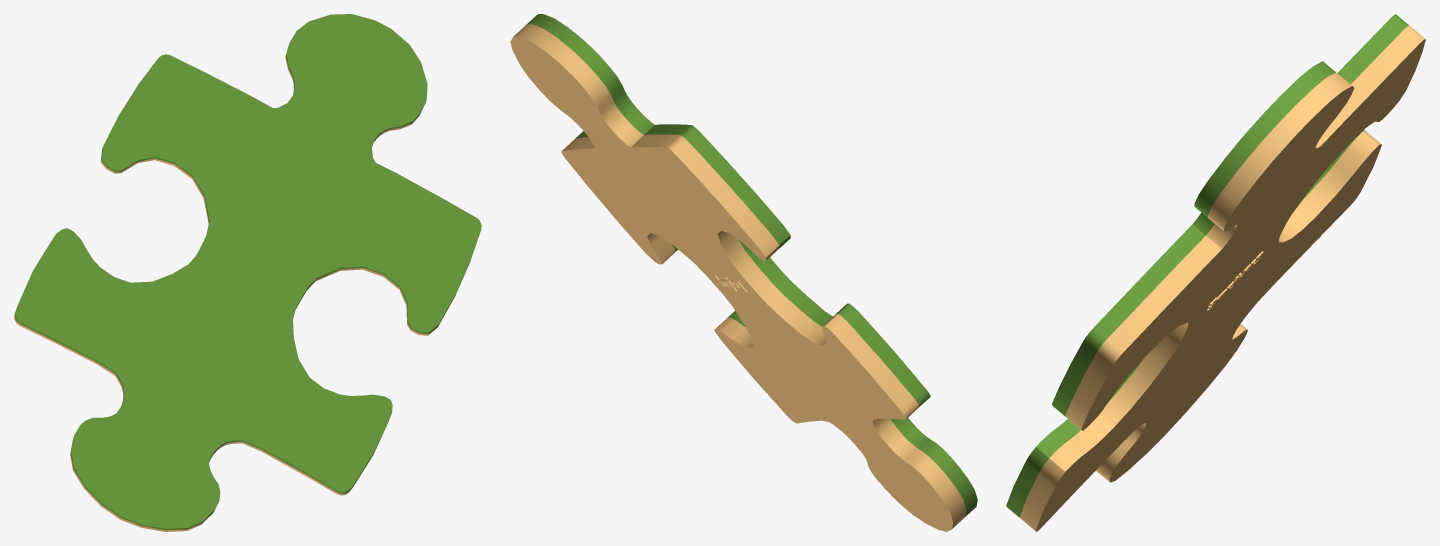
The model's file is puzzle_piece.gltf.
3 views of the same model, side by side, from view 1: azimuth 30°, elevation 25°; view 2: azimuth 150°, elevation 25°; view 3: azimuth 270°, elevation 25° (orthographic). The views are drawn at different scales.
Visible parts, largest first — view 1: Plane.312; view 2: Plane.312; view 3: Plane.312.
Part boxes in pixels (x1,y1,x2,y2): Plane.312: (14,14,481,531); Plane.312: (510,14,977,531); Plane.312: (1006,14,1425,531).
Size of the model in its own units: 2.06 by 2.09 by 1.42.
Materials: 1 (1 with a texture image).
